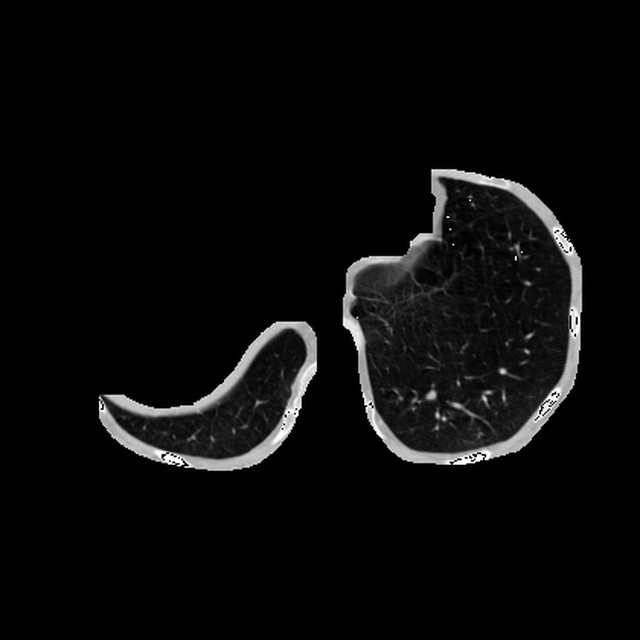PN: (425, 389, 437, 401)
